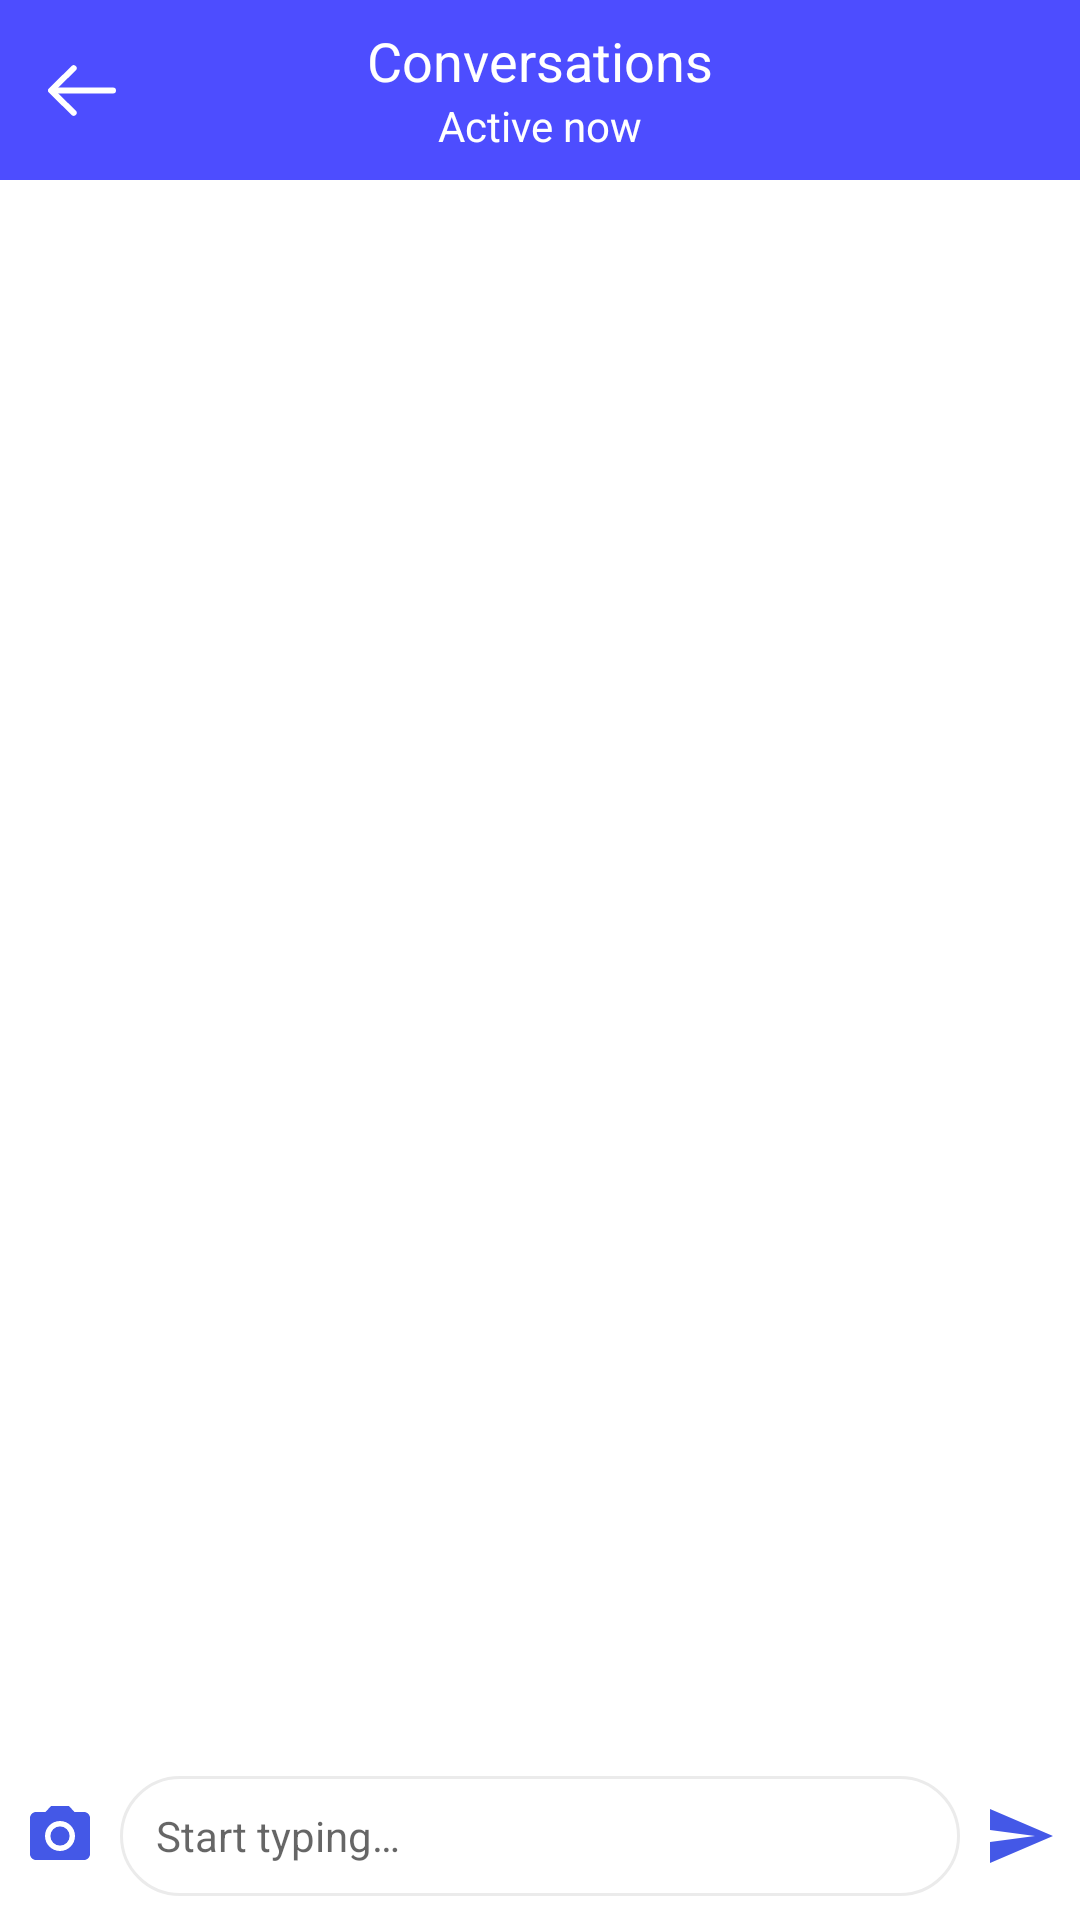

Locate icon controls on the screen. Image size 1080 × 1920, boxes as (x1,y1,x2,y2).
arrow back: (48,65,116,116)
camera: (30,1806,90,1860)
send: (990,1809,1053,1863)
